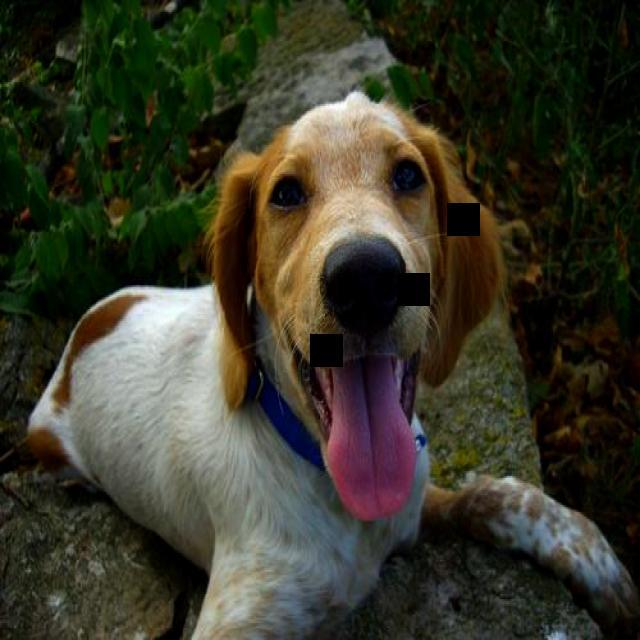adult_dog: (17, 86, 640, 640)
